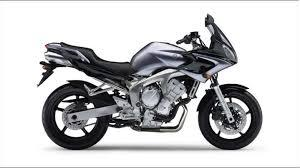motorcycle: (37, 11, 263, 152)
